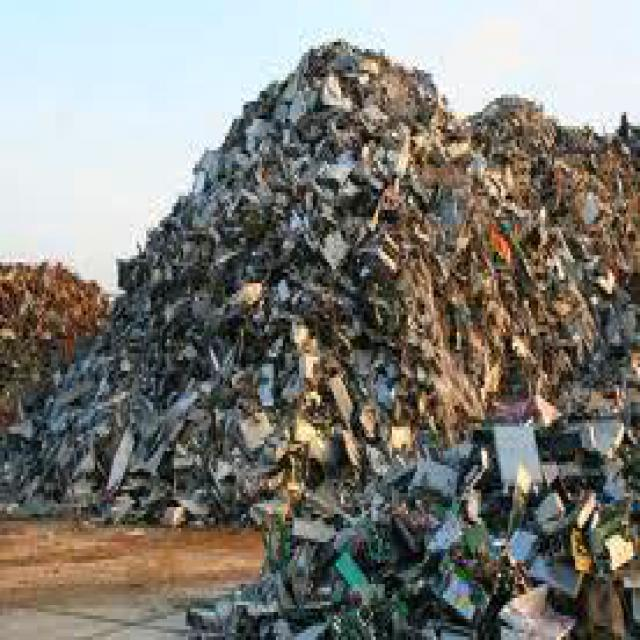garbage: (132, 11, 638, 636), (0, 220, 128, 535)
